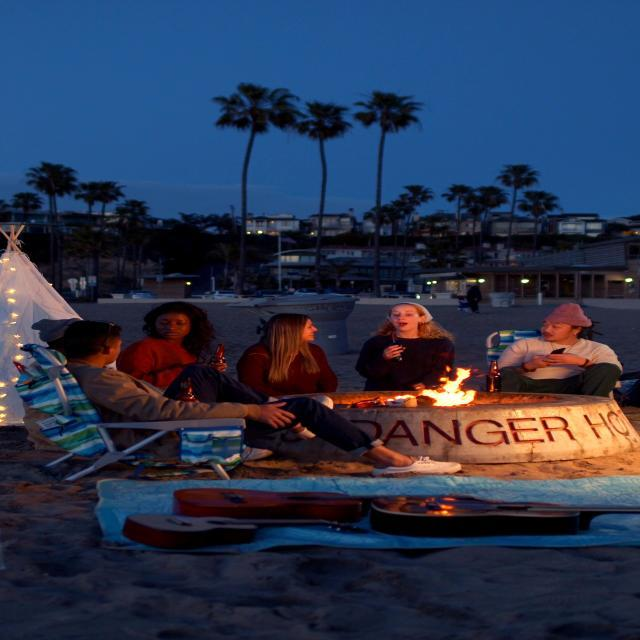Fire: (398, 359, 478, 405)
